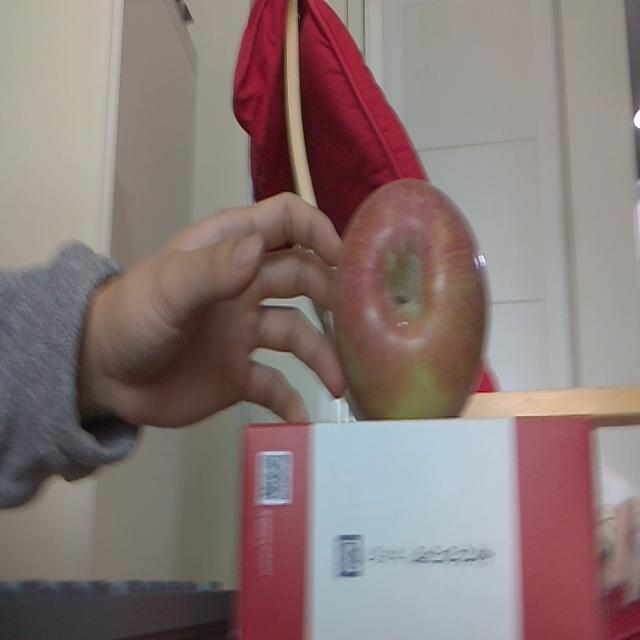apple: (329, 174, 492, 423)
